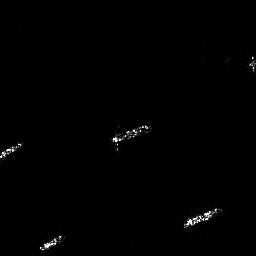ship: (109, 118, 157, 153), (179, 203, 226, 232), (36, 231, 70, 253), (1, 138, 27, 160)
